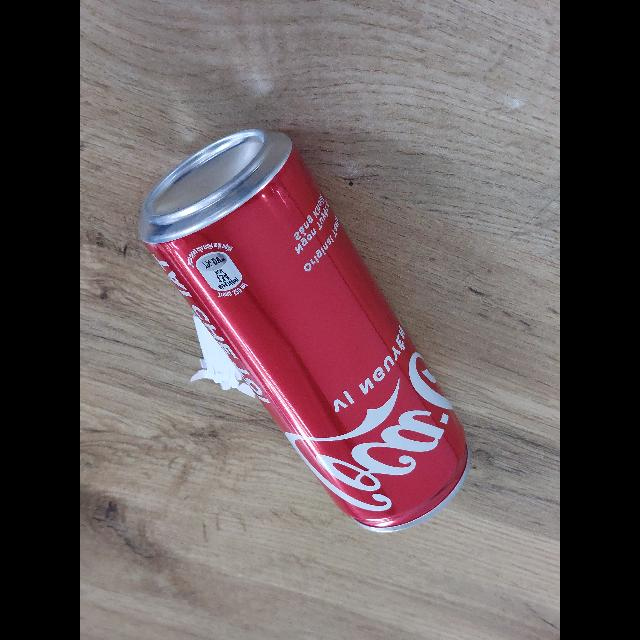coca_cola: (137, 126, 469, 532)
